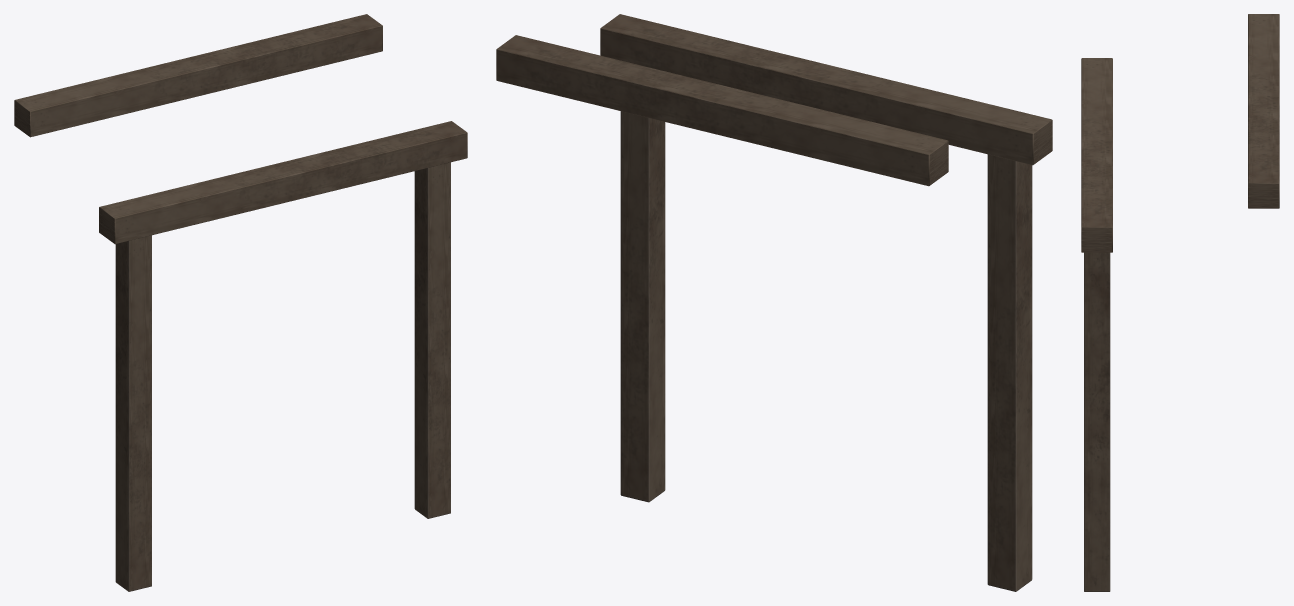
File: BW_ElderCottage01_PorchTimber.fbx
3 renders of one model, left to right at view 1: azimuth 30°, elevation 25°; view 2: azimuth 150°, elevation 25°; view 3: azimuth 270°, elevation 25°, orthographic. The views are drawn at different scales.
Parts seen in each view (by area): view 1: BW_ElderCottage01_PorchTimber; view 2: BW_ElderCottage01_PorchTimber; view 3: BW_ElderCottage01_PorchTimber.
Part boxes in pixels (x1,y1,x2,y2): BW_ElderCottage01_PorchTimber: [14, 14, 467, 591]; BW_ElderCottage01_PorchTimber: [496, 14, 1052, 591]; BW_ElderCottage01_PorchTimber: [1081, 14, 1279, 591].
Size of the model in its own units: 2.55 by 2.92 by 1.26.
